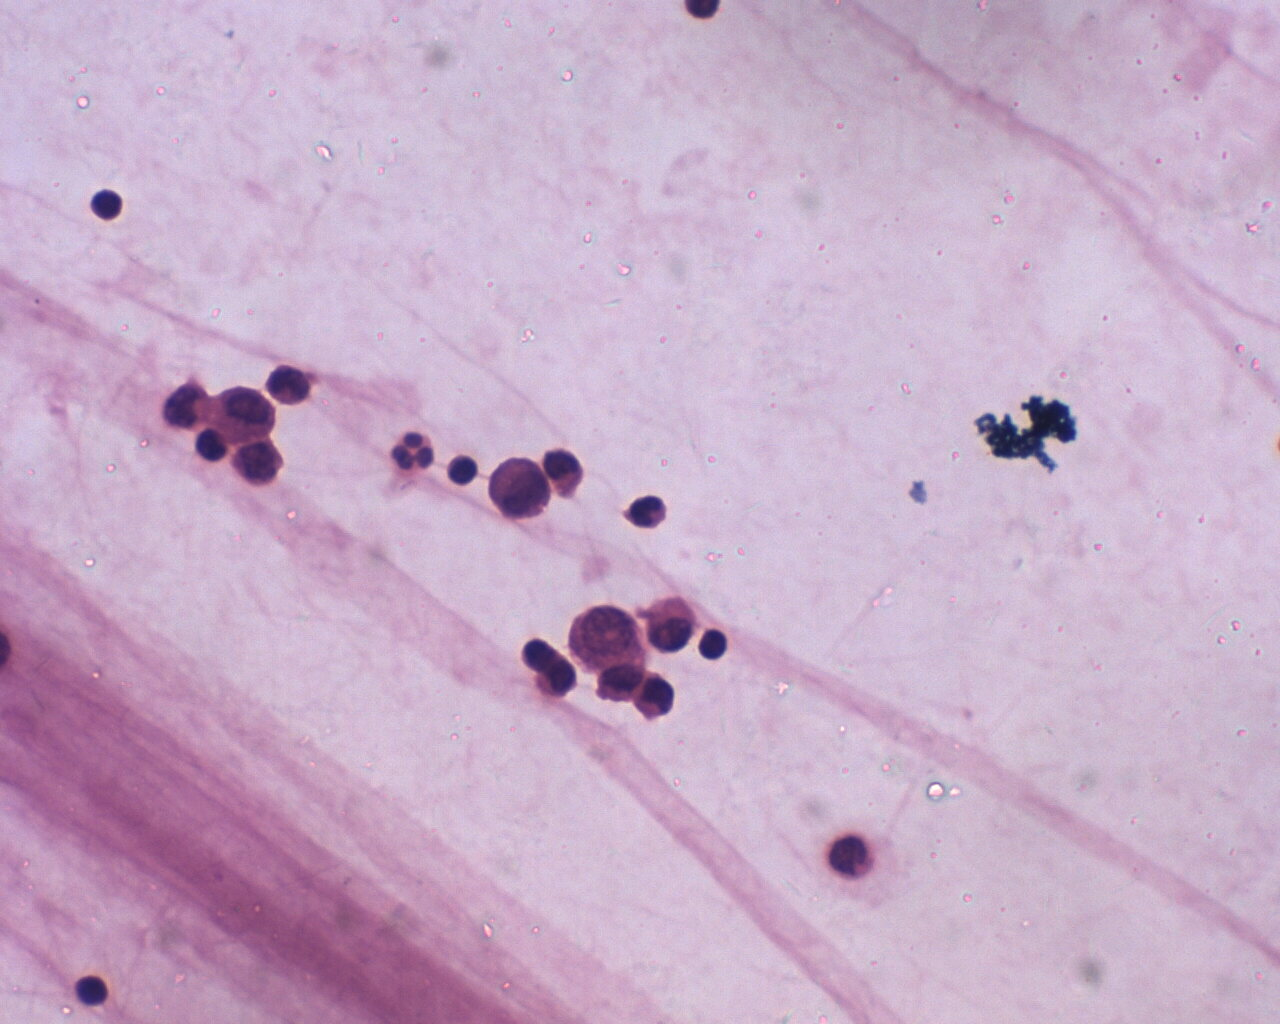ab: (488, 453, 554, 519)
lymph: (70, 968, 114, 1011), (83, 186, 125, 222), (696, 629, 734, 662), (445, 451, 479, 486)
meso: (202, 381, 274, 447)
neutro: (390, 429, 436, 474), (626, 490, 670, 531)
